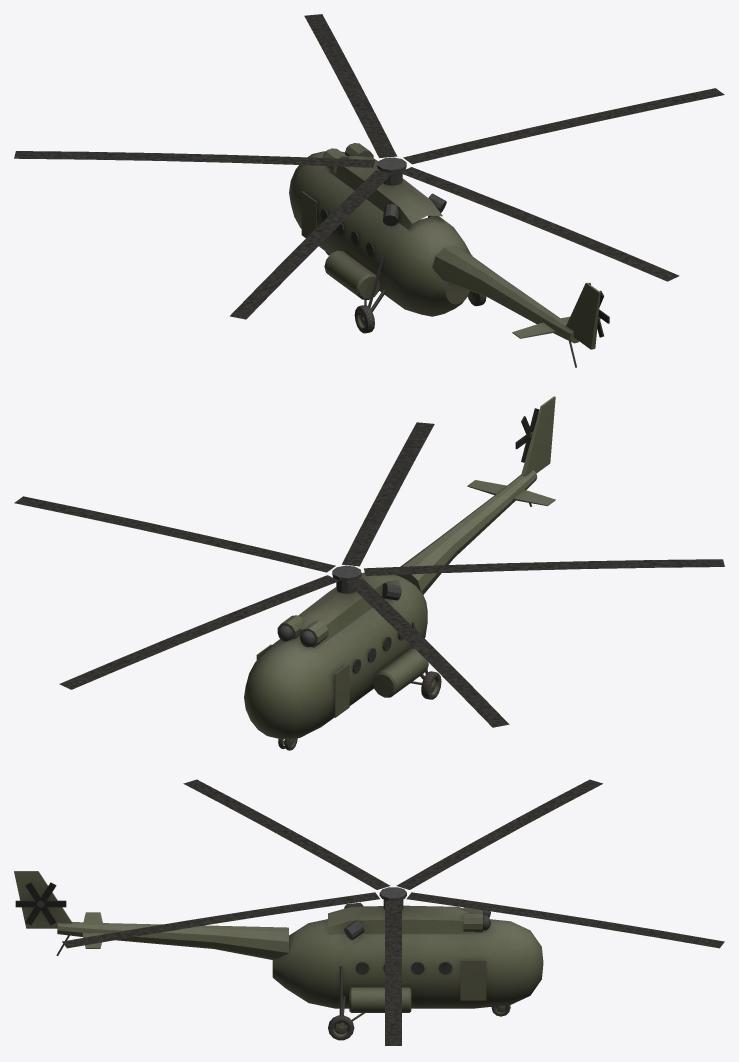
Rendered from helicopter.glb.
The picture shows the model from 3 angles, top to bottom: view 1: azimuth 30°, elevation 25°; view 2: azimuth 150°, elevation 25°; view 3: azimuth 270°, elevation 25°; orthographic projection. The views are drawn at different scales.
Parts seen in each view (by area): view 1: fuselage, rotor; view 2: fuselage, rotor; view 3: fuselage, rotor, tail_rotor.
Boxes of the visible parts, left/top/right/bottom form: fuselage: left=289, top=143, right=600, bottom=367; rotor: left=14, top=14, right=724, bottom=319; fuselage: left=244, top=396, right=555, bottom=750; rotor: left=14, top=422, right=724, bottom=727; fuselage: left=14, top=871, right=543, bottom=1040; rotor: left=62, top=779, right=724, bottom=1045; tail_rotor: left=15, top=882, right=66, bottom=925.
Size of the model in its own units: 19.33 by 4.85 by 21.79.
1 material, 1 textured.
